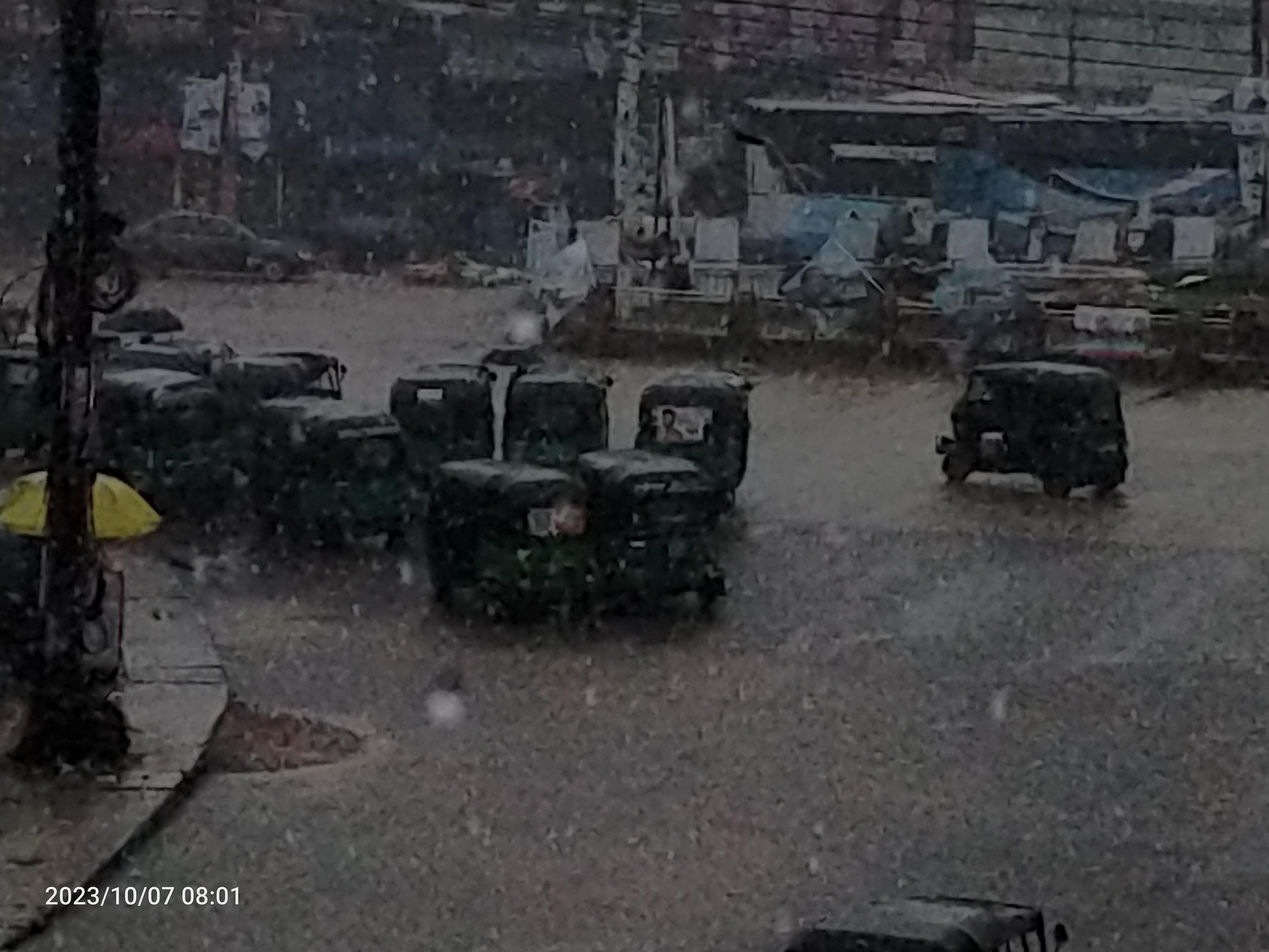Bus: (720, 66, 1269, 307)
Car: (110, 196, 325, 293)
